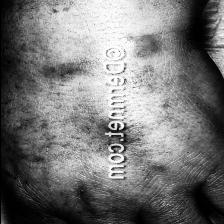Unclassified: (74, 185, 106, 217), (48, 58, 72, 86)
